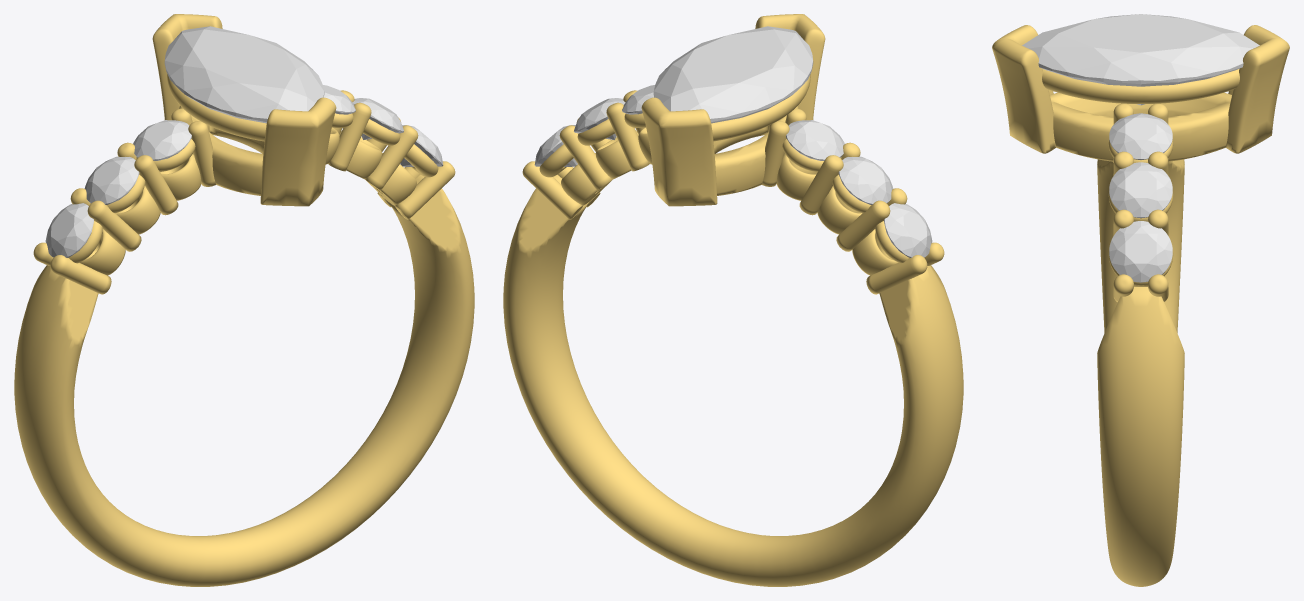
File: diamond-marquise-yellowgold-protectededges2prongs-taperedband-7stone.glb
3 views of the same model, side by side, from view 1: azimuth 30°, elevation 25°; view 2: azimuth 150°, elevation 25°; view 3: azimuth 270°, elevation 25° (orthographic).
Visible parts, largest first — view 1: metal, stone.002, dia.001, dia.009, dia.010, dia.012, dia.011; view 2: metal, stone.002, dia.001, dia.009, dia.010, dia.012, dia.011; view 3: metal, stone.002, dia.011, dia.012, dia.013.
Part boxes in pixels (box(x1,y1,x2,y2)): metal: box(14, 14, 474, 586); stone.002: box(164, 26, 324, 123); dia.001: box(45, 203, 93, 257); dia.009: box(84, 156, 139, 204); dia.010: box(133, 120, 191, 160); dia.012: box(352, 98, 403, 139); dia.011: box(400, 125, 443, 166); metal: box(503, 14, 963, 586); stone.002: box(653, 26, 813, 123); dia.001: box(884, 203, 932, 257); dia.009: box(838, 156, 893, 204); dia.010: box(786, 120, 844, 160); dia.012: box(574, 98, 625, 139); dia.011: box(534, 125, 577, 166); metal: box(992, 25, 1289, 586); stone.002: box(1022, 14, 1259, 105); dia.011: box(1109, 221, 1172, 282); dia.012: box(1109, 162, 1172, 218); dia.013: box(1109, 113, 1172, 159).
Bounding box in the file's own units: 20.5 × 22.92 × 11.69.
